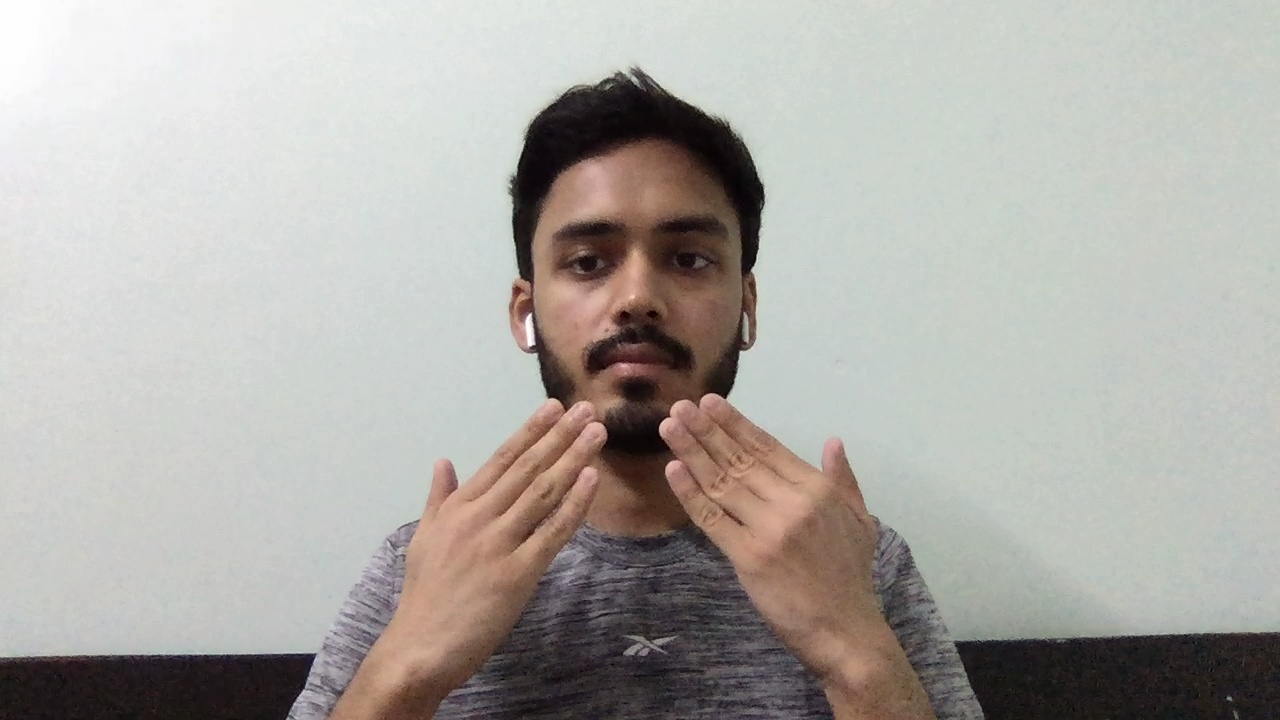Thank You: (373, 388, 925, 668)
